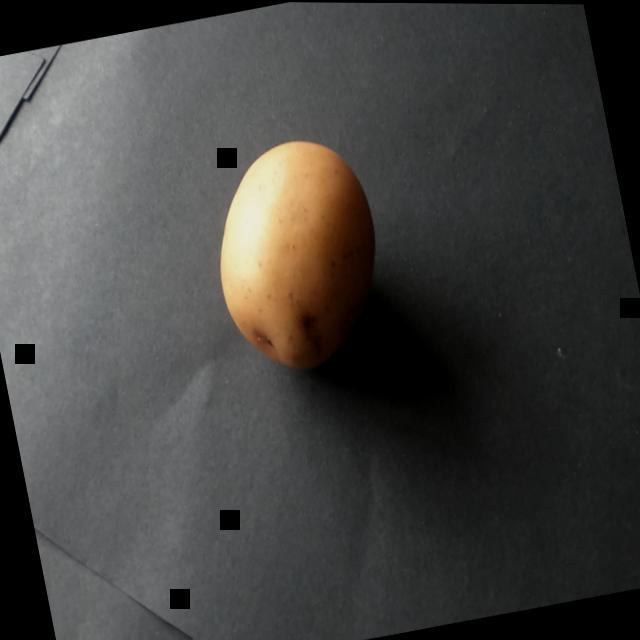Potato: (163, 89, 429, 441)
